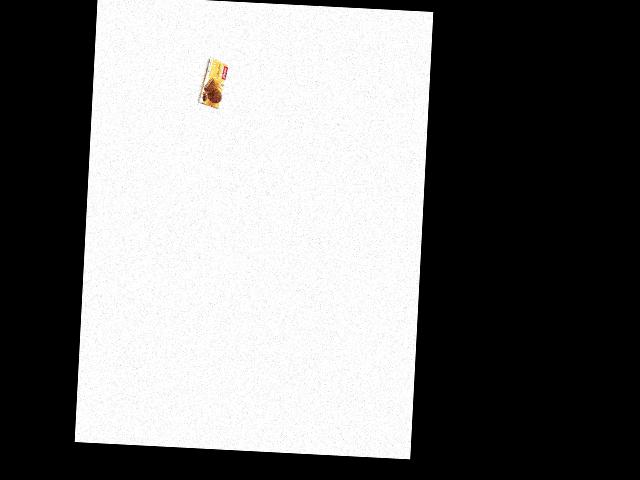chocolate: (202, 49, 229, 112)
